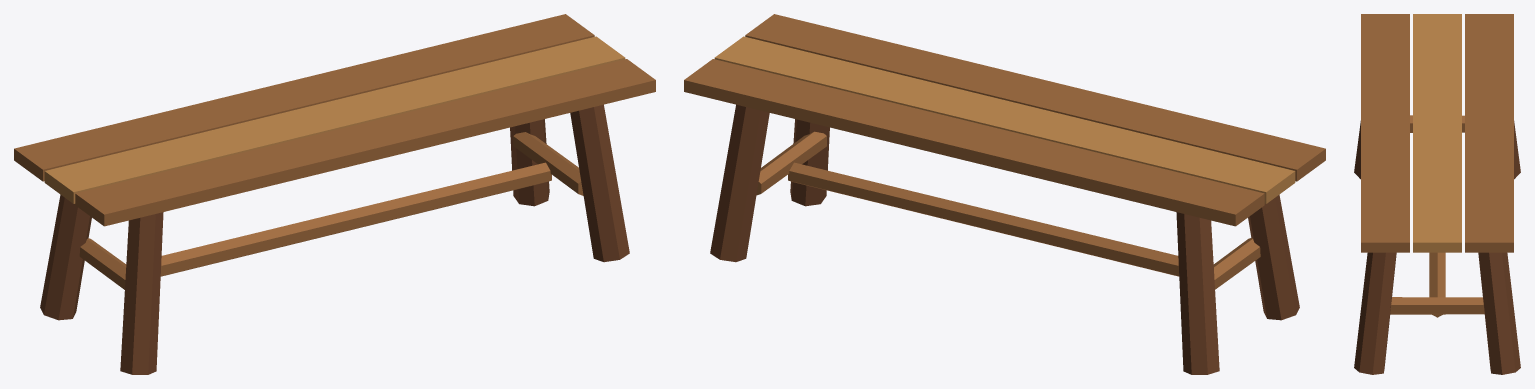
Rendered from bench.glb.
3 renders of one model, left to right at view 1: azimuth 30°, elevation 25°; view 2: azimuth 150°, elevation 25°; view 3: azimuth 270°, elevation 25°, orthographic. The views are drawn at different scales.
Parts seen in each view (by area): view 1: bench.001; view 2: bench.001; view 3: bench.001.
Boxes of the visible parts, x1=… form: bench.001: x1=14, y1=14, x2=655, y2=374; bench.001: x1=684, y1=14, x2=1325, y2=374; bench.001: x1=1354, y1=14, x2=1520, y2=374.
Bounding box in the file's own units: 1.62 × 0.4803 × 0.4999.
